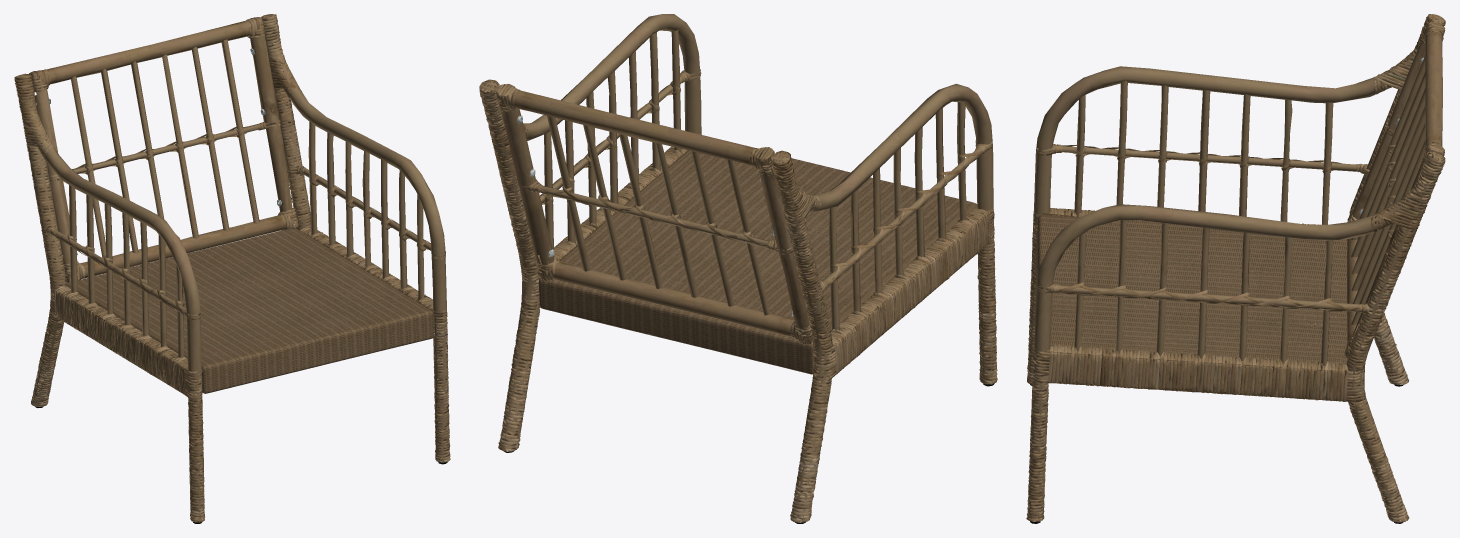
3 renders of one model, left to right at view 1: azimuth 30°, elevation 25°; view 2: azimuth 150°, elevation 25°; view 3: azimuth 270°, elevation 25°, orthographic. The views are drawn at different scales.
Parts seen in each view (by area): view 1: 1; view 2: 1; view 3: 1.
Part boxes in pixels (<box>): 1: <box>14,14,450,523</box>; 1: <box>479,14,997,523</box>; 1: <box>1026,14,1445,523</box>.
Size of the model in its own units: 0.6218 by 0.7329 by 0.754.
2 materials, 2 textured.
